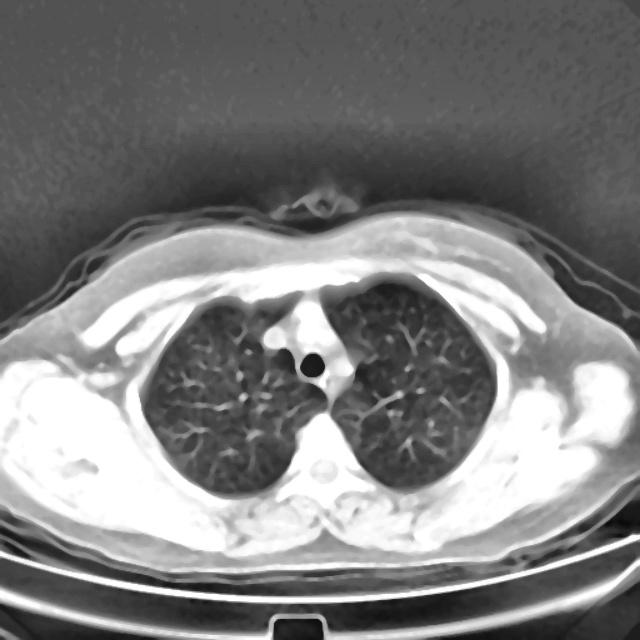covid: (0, 192, 639, 588)
